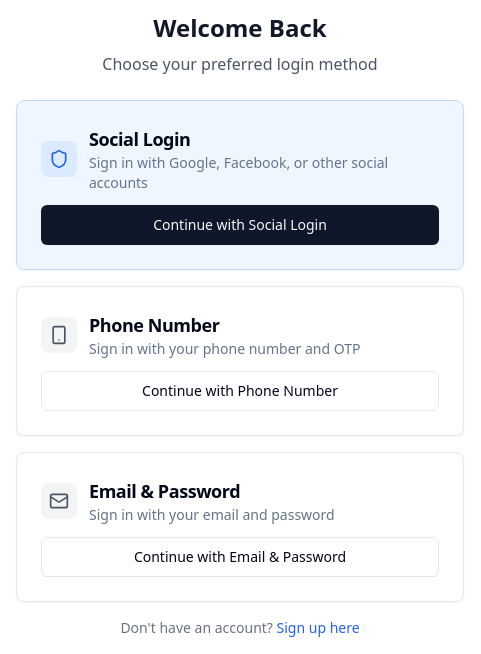
Login Component › shows email login when email method is selected
Click the text "Email & Password": (212, 502) [89,479,335,524]
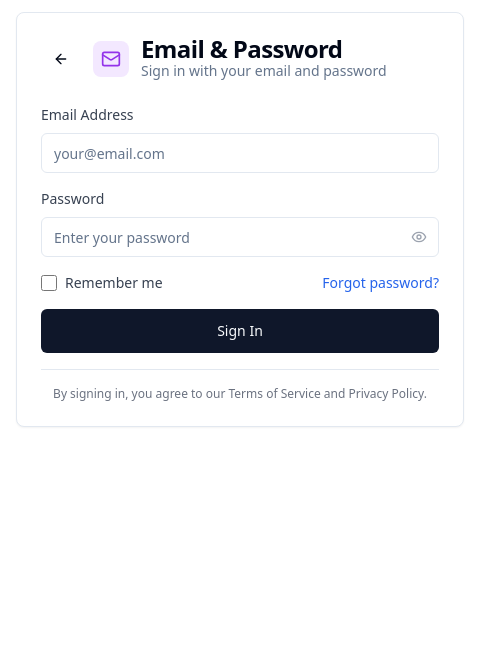
Expected: the heading "Email & Password" is shown, [141,32,342,65]
Now the field with placeholder "your@email.com" is shown, box [41,133,439,173]
Now the password field with placeholder "Enter your password" is shown, box [41,217,439,257]
